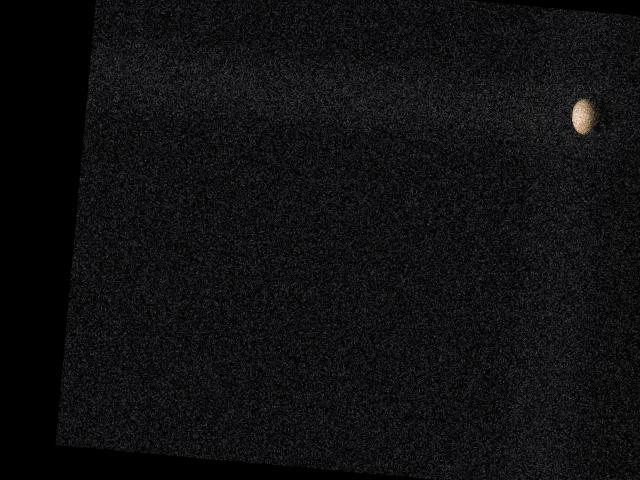egg: (569, 96, 599, 136)
